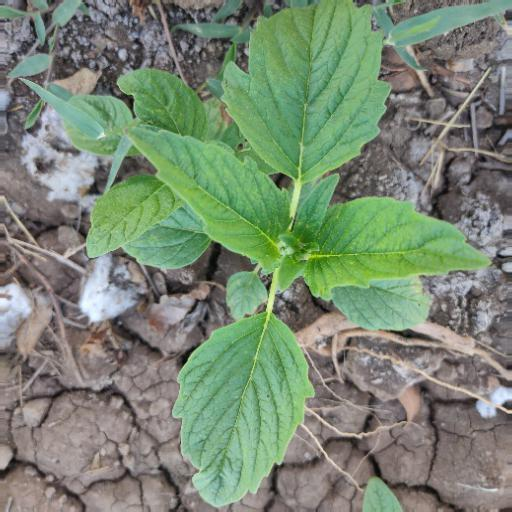crop: (100, 3, 496, 512)
